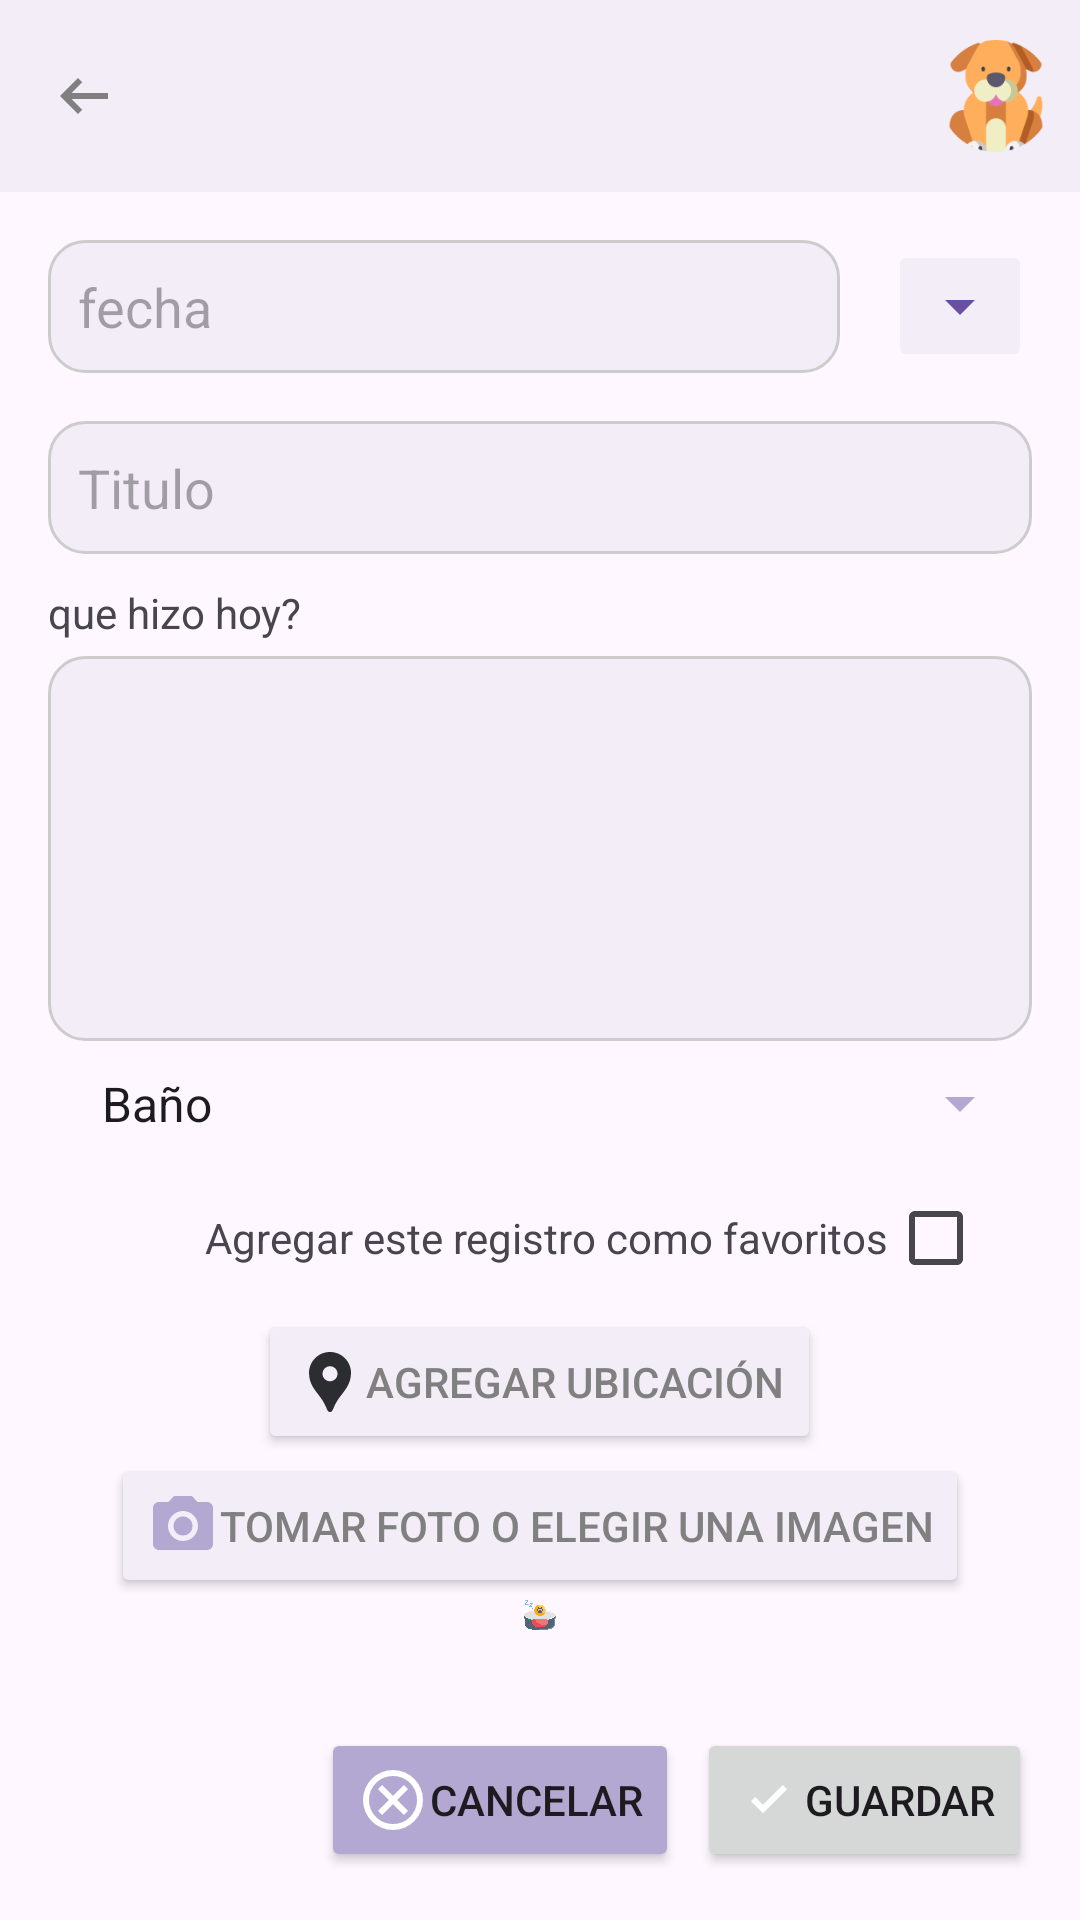

Icons on this 1080*1920 Android screen, each with its box as bbox(x1, y1, x2, y2):
arrow drop down: bbox(945, 300, 975, 315)
dormir: bbox(524, 1600, 556, 1630)
